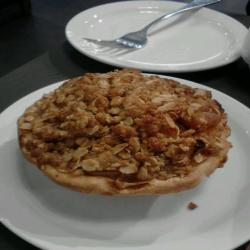apple_pie: (17, 66, 236, 211)
